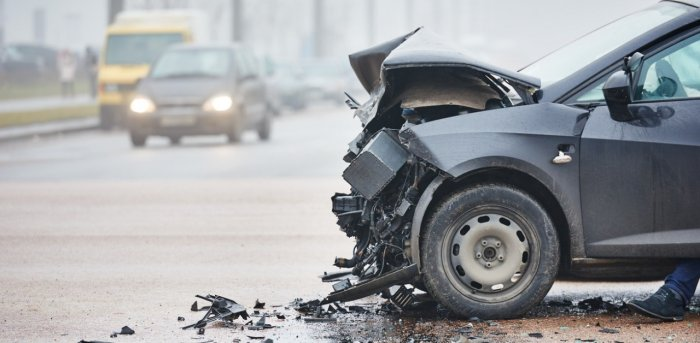accident: (242, 1, 700, 343)
